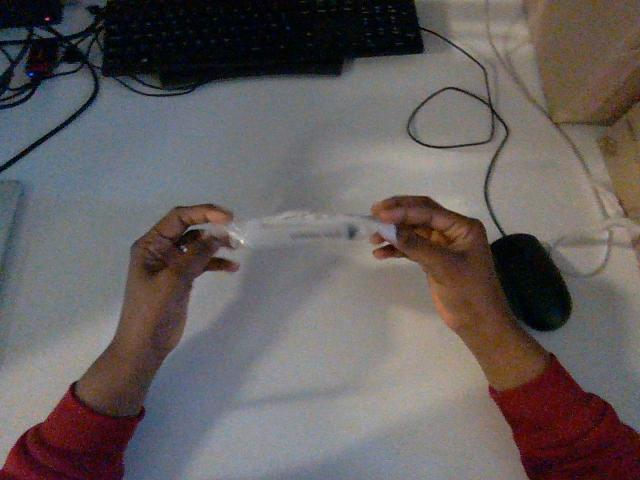syringe: (195, 211, 395, 247)
